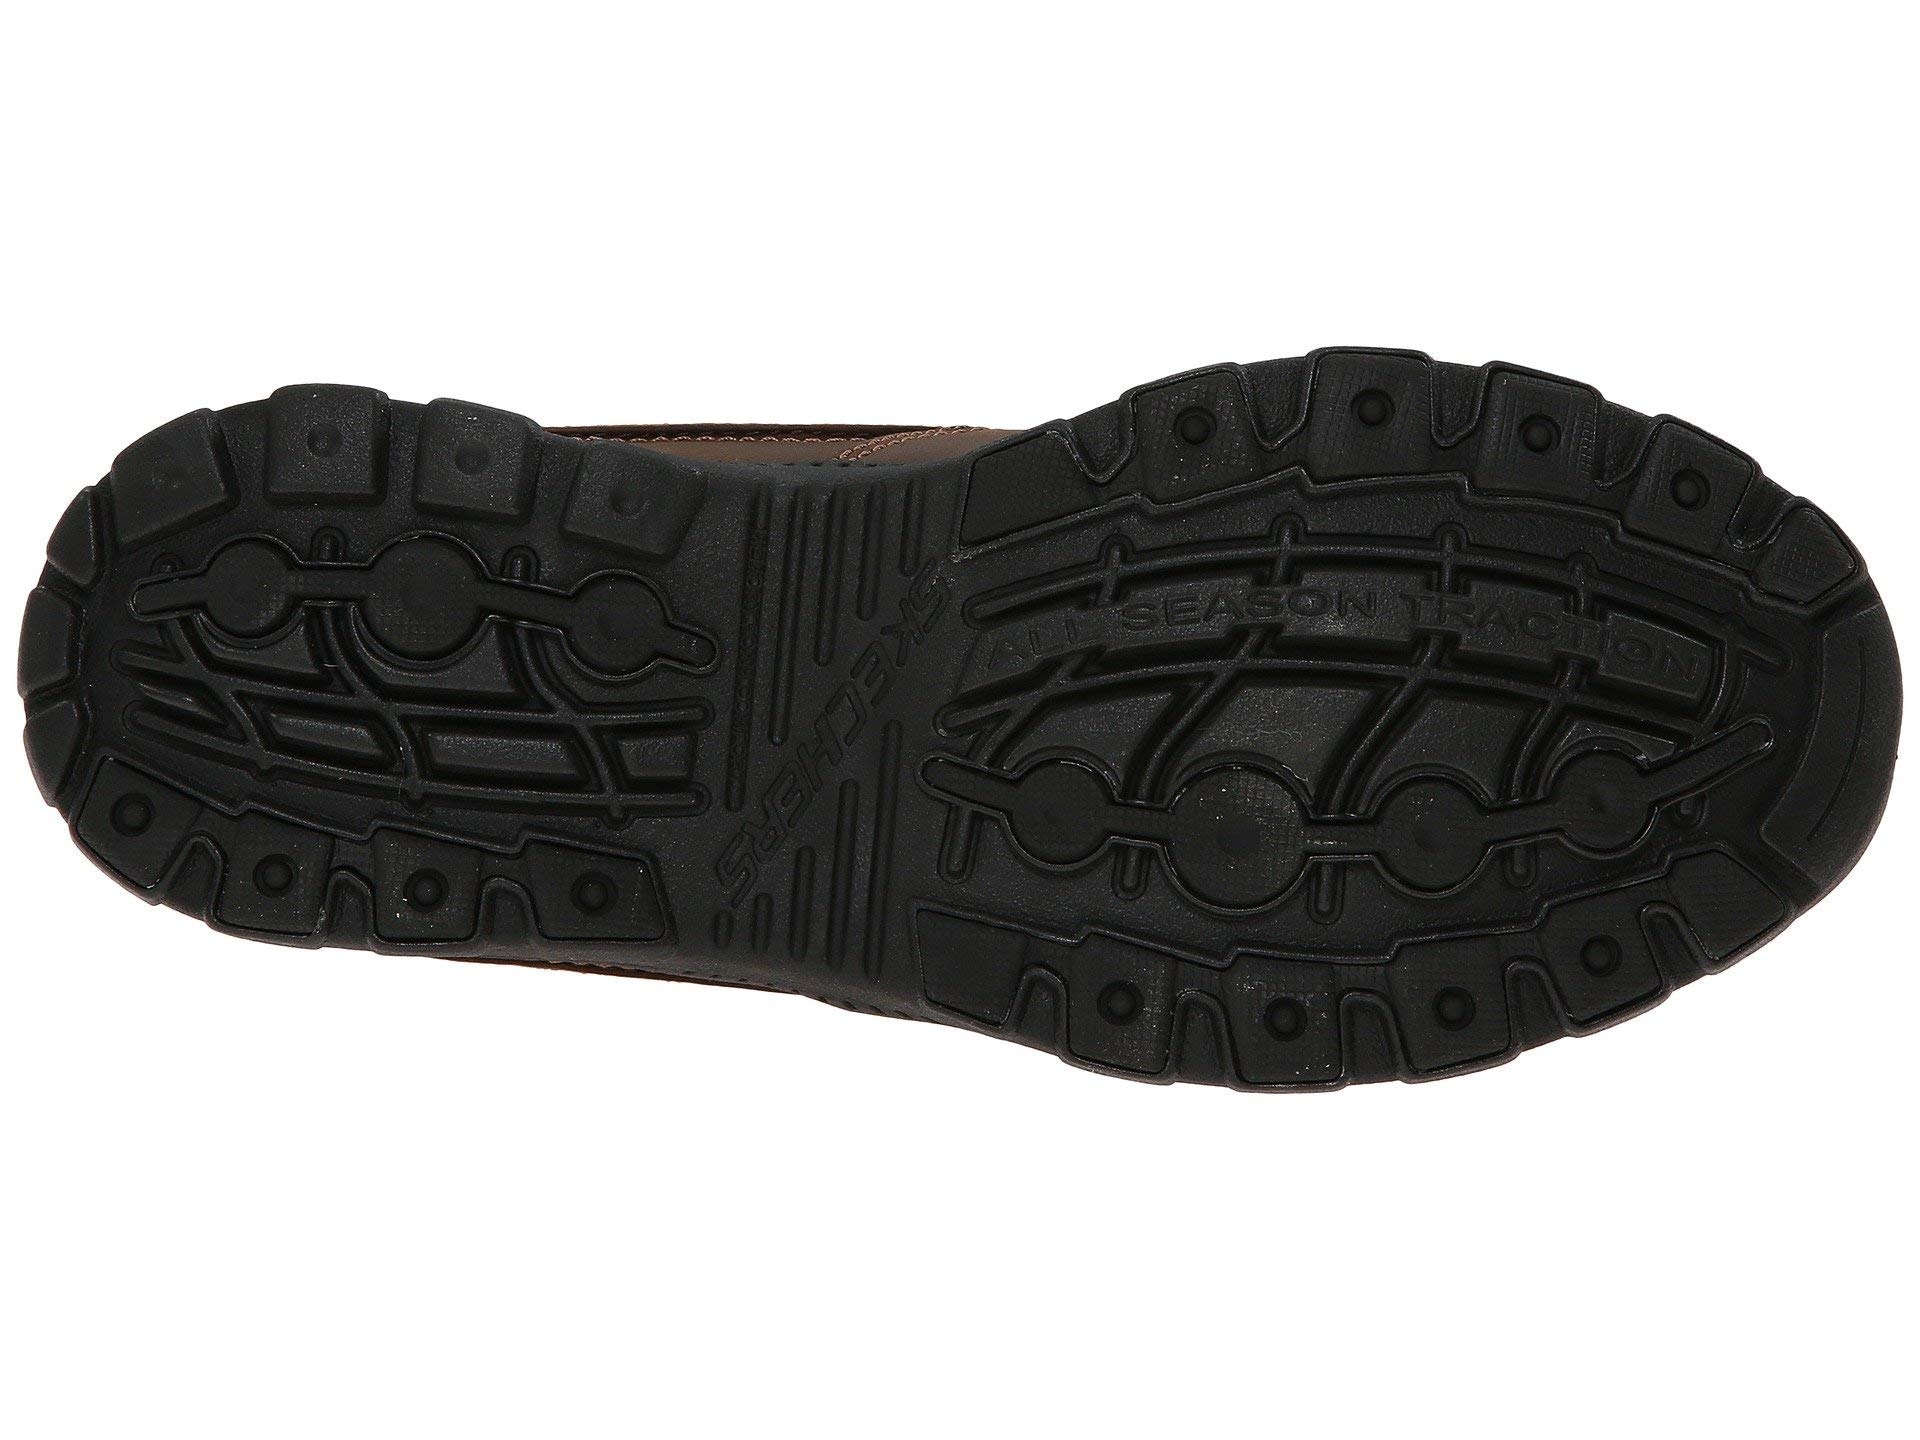circle: (986, 508, 1733, 894), (160, 540, 717, 811), (1284, 333, 1465, 489), (1476, 343, 1625, 510), (255, 380, 398, 517)
line: (986, 508, 1733, 894)
quad: (160, 540, 717, 811), (1284, 333, 1465, 489), (1476, 343, 1625, 510), (255, 380, 398, 517)
text: (986, 508, 1733, 894)
